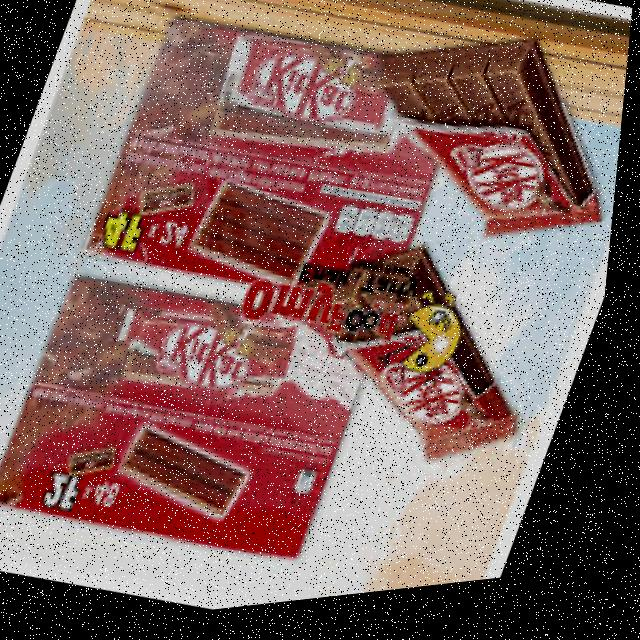kitkat: (272, 211, 594, 506), (342, 34, 633, 277)
